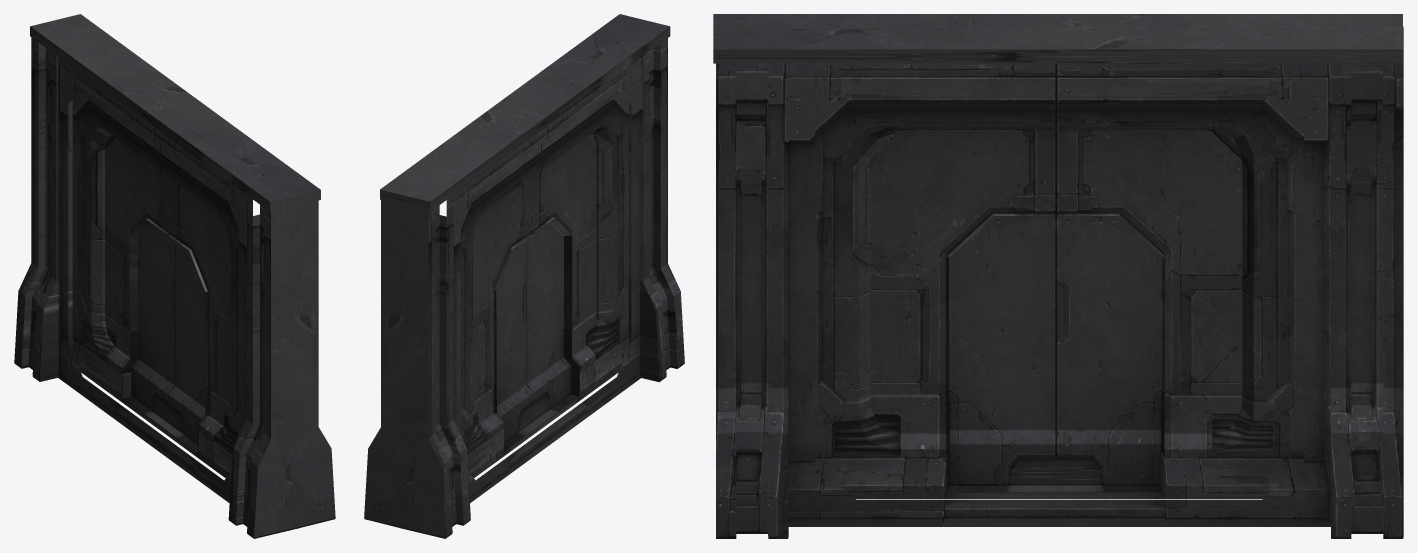
Rendered from WallToWall.fbx.
3 renders of one model, left to right at view 1: azimuth 30°, elevation 25°; view 2: azimuth 150°, elevation 25°; view 3: azimuth 270°, elevation 25°, orthographic. The views are drawn at different scales.
Visible parts, largest first — view 1: Cube; view 2: Cube; view 3: Cube.
Boxes of the visible parts, x1,y1,x2,y2 form: Cube: (14,14,335,538); Cube: (364,14,684,538); Cube: (713,14,1403,538).
Bounding box in the file's own units: 718 × 2815 × 3668.
